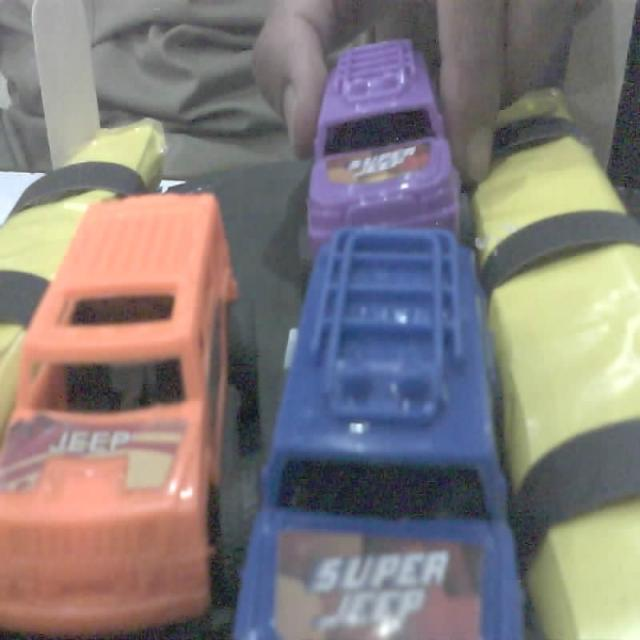ThreeCar: (253, 225, 532, 640), (16, 185, 226, 607), (293, 32, 481, 238)
